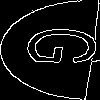G: (24, 25, 100, 68)
